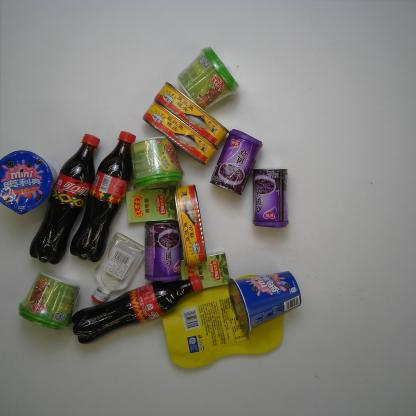Alcohol: (88, 230, 150, 307)
Candy: (176, 247, 233, 296), (121, 184, 179, 225)
Canned Food: (152, 79, 232, 151), (139, 99, 219, 166), (207, 126, 266, 197), (138, 217, 184, 288), (173, 182, 209, 268), (250, 164, 290, 231)
Dessert: (228, 268, 304, 336), (0, 149, 60, 218)
Dried Fruit: (162, 271, 286, 372)
Drink: (26, 132, 103, 268), (69, 270, 204, 347), (69, 129, 136, 264)
Instant Drink: (175, 43, 242, 112), (16, 268, 85, 334), (128, 135, 185, 197)
